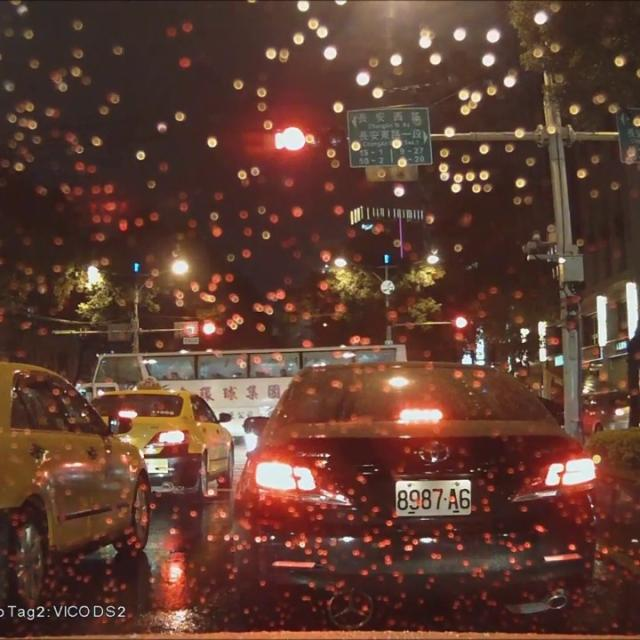Car: (225, 357, 603, 633), (0, 357, 154, 612), (87, 385, 241, 509), (574, 385, 634, 437)
